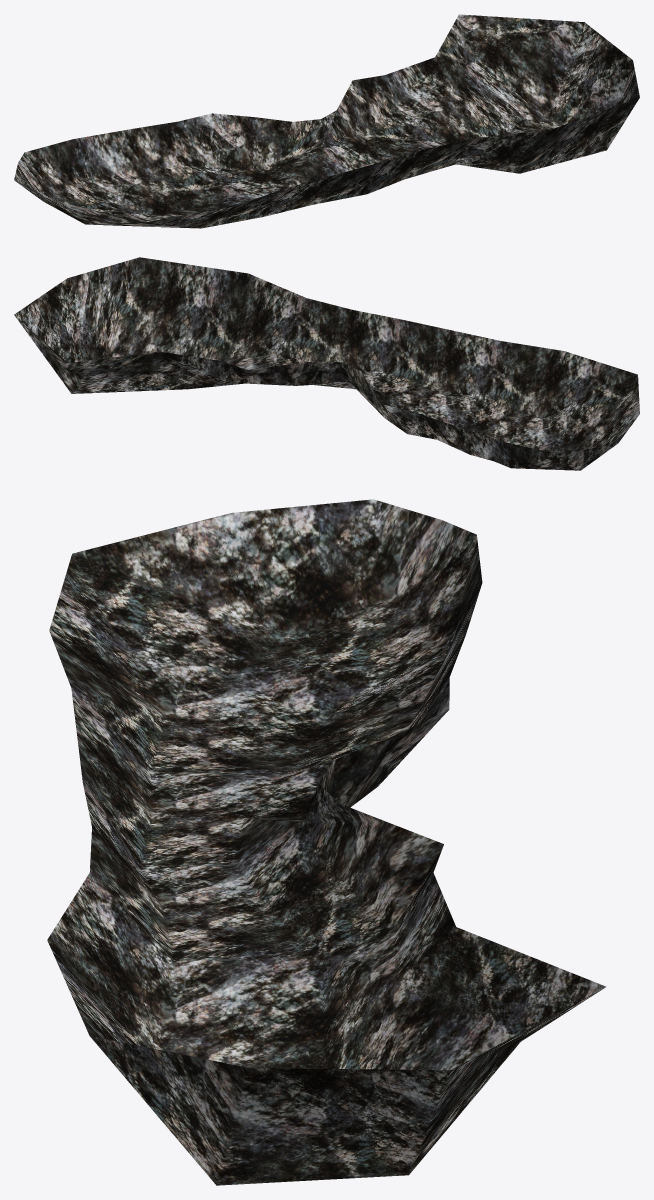
Rendered from OVERHILL_A_01_MOUNTAIN_VALLEY_02.fbx.
3 views of the same model, one above another, from view 1: azimuth 30°, elevation 25°; view 2: azimuth 150°, elevation 25°; view 3: azimuth 270°, elevation 25° (orthographic). The views are drawn at different scales.
Visible parts, largest first — view 1: OVERHILL_A_01_MOUNTAIN_VALLEY_02; view 2: OVERHILL_A_01_MOUNTAIN_VALLEY_02; view 3: OVERHILL_A_01_MOUNTAIN_VALLEY_02.
Boxes of the visible parts, bbox=[...] form: OVERHILL_A_01_MOUNTAIN_VALLEY_02: bbox=[14, 14, 639, 228]; OVERHILL_A_01_MOUNTAIN_VALLEY_02: bbox=[14, 257, 639, 470]; OVERHILL_A_01_MOUNTAIN_VALLEY_02: bbox=[47, 499, 606, 1185].
Size of the model in its own units: 1391909 by 171450 by 576495.
1 material, 1 textured.
